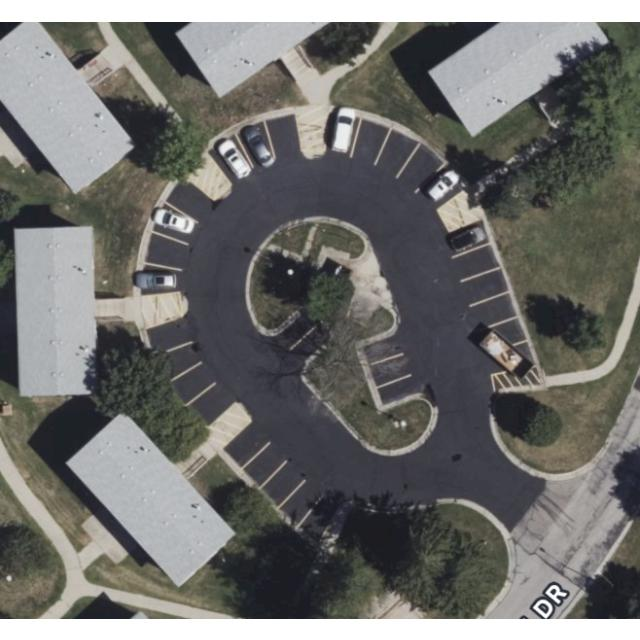Parked: (207, 130, 256, 185), (416, 161, 470, 210), (237, 118, 278, 169), (151, 202, 199, 243), (448, 218, 491, 257), (325, 112, 362, 157), (141, 262, 183, 295)
